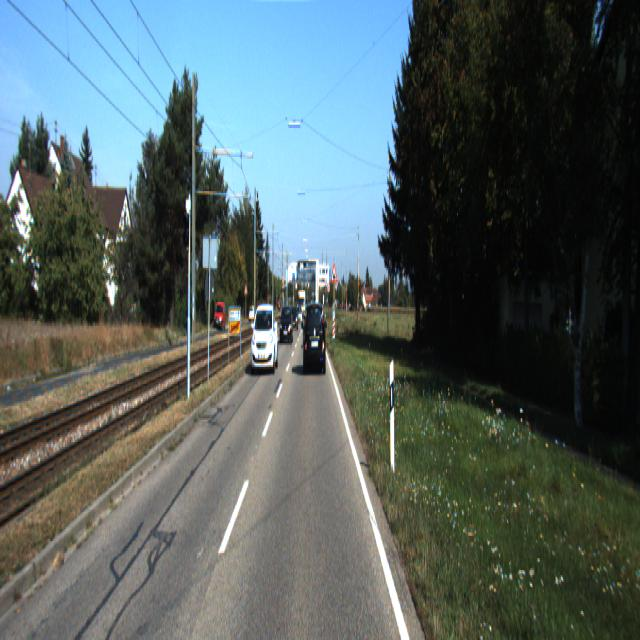Car: (251, 301, 279, 373), (304, 300, 326, 374), (280, 306, 294, 346), (290, 304, 298, 329)
